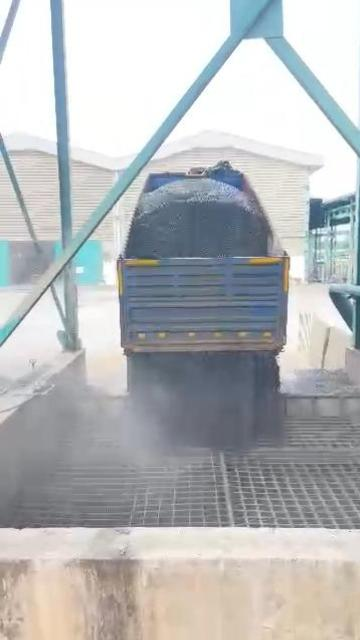gravel: (129, 353, 279, 449), (127, 168, 279, 256), (298, 369, 360, 396)
